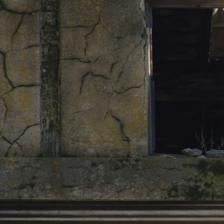Crack: (0, 28, 48, 104), (3, 7, 45, 77), (9, 2, 50, 67), (22, 8, 58, 54), (0, 61, 56, 83), (23, 69, 74, 91), (28, 30, 72, 42)
